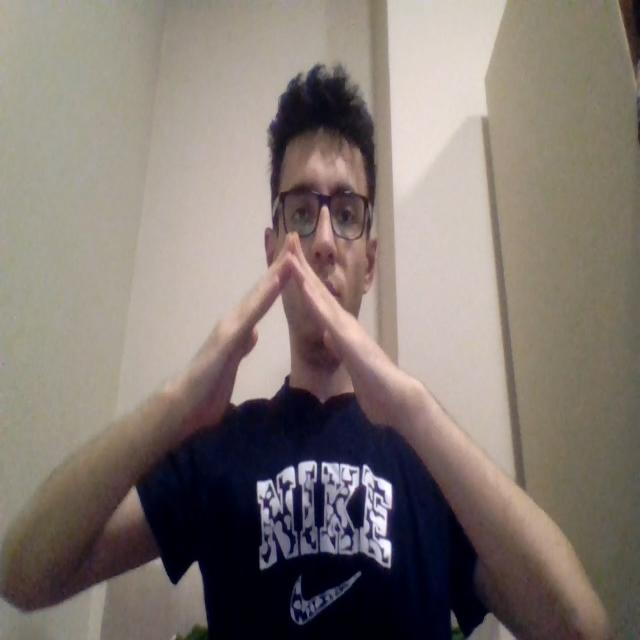house: (168, 233, 406, 430)
